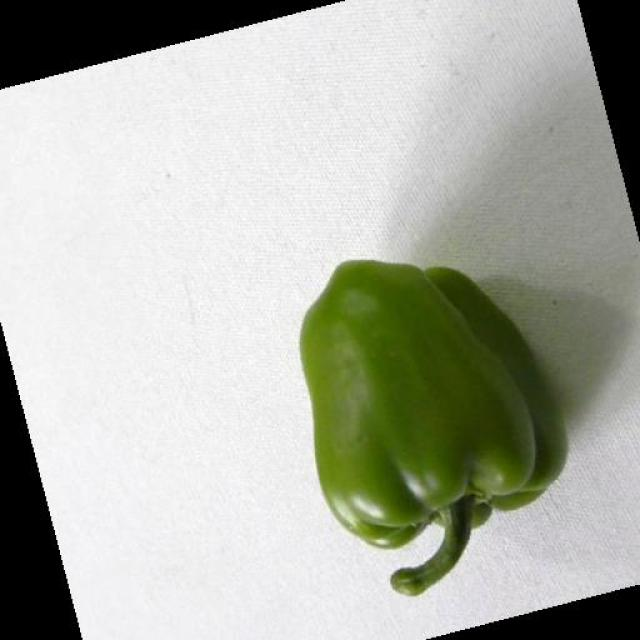Fresh_Capsicum: (290, 262, 570, 580)
